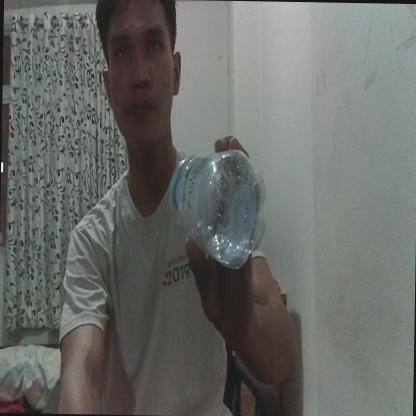plastic_bottles: (168, 150, 269, 272)
